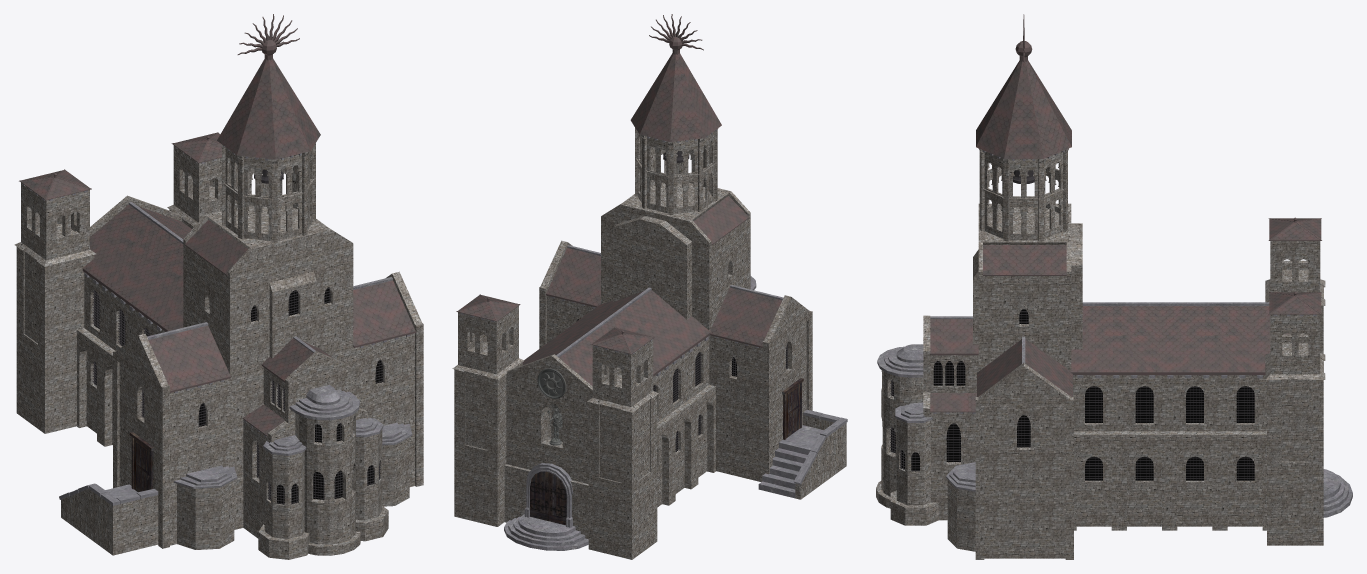
Rendered from church.glb.
3 renders of one model, left to right at view 1: azimuth 30°, elevation 25°; view 2: azimuth 150°, elevation 25°; view 3: azimuth 270°, elevation 25°, orthographic. The views are drawn at different scales.
Visible parts, largest first — view 1: church; view 2: church; view 3: church.
Part boxes in pixels (<box>): church: <box>14,14,423,559</box>; church: <box>452,14,847,559</box>; church: <box>876,14,1352,559</box>.
Bounding box in the file's own units: 12.41 × 18.77 × 16.92.
Materials: 12 (11 with a texture image).
